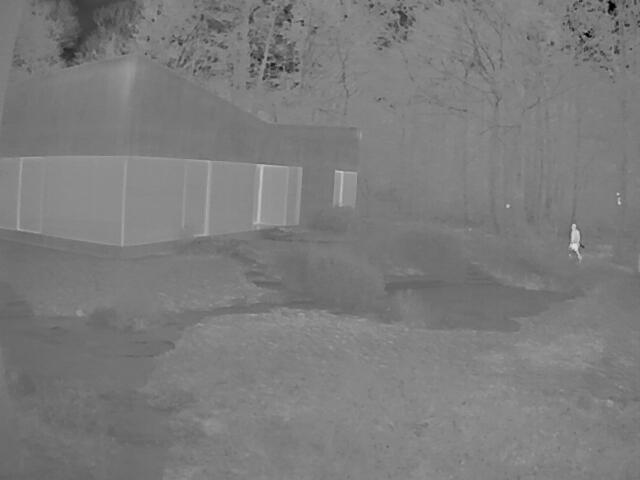person: (567, 222, 584, 261)
